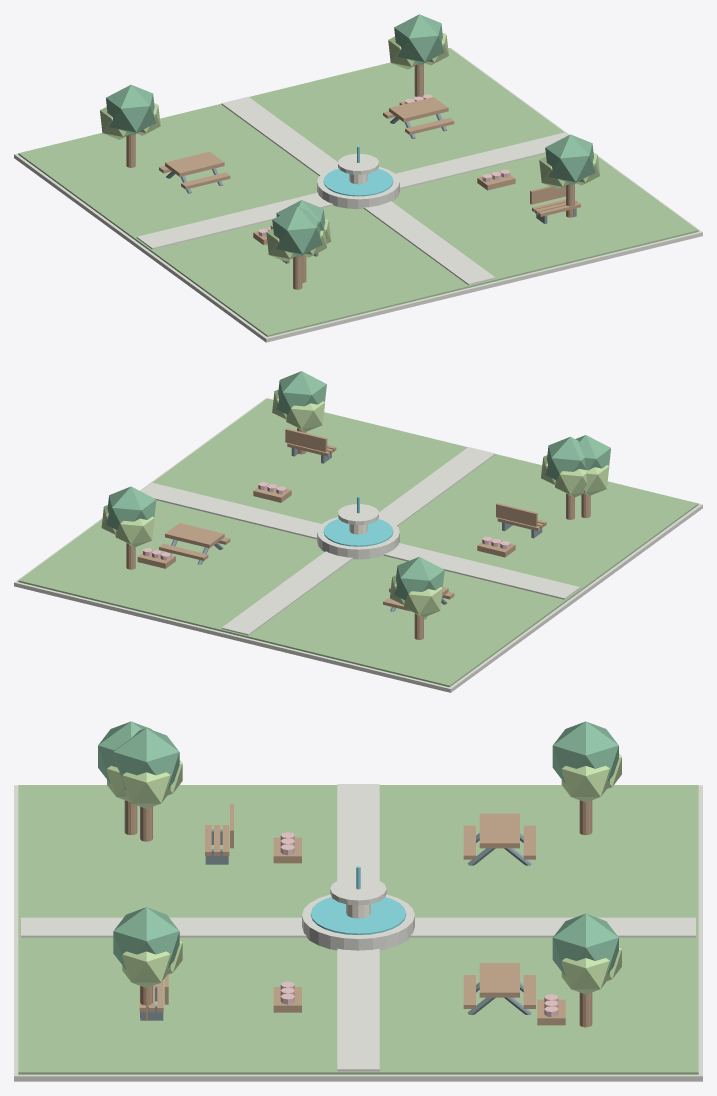
File: remaster_largePark.glb
The picture shows the model from 3 angles, top to bottom: view 1: azimuth 30°, elevation 25°; view 2: azimuth 150°, elevation 25°; view 3: azimuth 270°, elevation 25°; orthographic projection. The views are drawn at different scales.
Parts seen in each view (by area): view 1: lot surface.001, walking path.002, walking path.003, lot foundation.001, tree canopy.018, tree canopy.012, tree canopy.015, tree canopy.009, fountain basin, fountain water, picnic table, picnic table.001 (+1 smaller); view 2: lot surface.001, walking path.003, walking path.002, lot foundation.001, tree canopy.015, tree canopy.018, tree canopy.012, fountain basin, fountain water, tree canopy.021, picnic table.001, tree canopy.014 (+8 smaller); view 3: lot surface.001, walking path.002, walking path.003, lot foundation.001, tree canopy.012, tree canopy.015, tree canopy.018, fountain basin, tree canopy.021, fountain water, picnic table, picnic table.001 (+7 smaller).
Part boxes in pixels (x1,y1,x2,y2): lot surface.001: (18, 48, 698, 336); walking path.002: (221, 96, 495, 285); walking path.003: (136, 132, 568, 249); lot foundation.001: (14, 48, 702, 342); tree canopy.018: (545, 134, 595, 185); tree canopy.012: (394, 14, 444, 64); tree canopy.015: (106, 84, 156, 135); tree canopy.009: (272, 206, 322, 257); fountain basin: (317, 166, 399, 209); fountain water: (323, 168, 393, 196); picnic table: (165, 151, 224, 176); picnic table.001: (389, 97, 448, 121); lot surface.001: (18, 398, 698, 687); walking path.003: (141, 482, 580, 599); walking path.002: (221, 447, 495, 635); lot foundation.001: (14, 398, 702, 692); tree canopy.015: (394, 556, 444, 600); tree canopy.018: (276, 371, 326, 414); tree canopy.012: (106, 486, 156, 529); fountain basin: (317, 517, 399, 559); fountain water: (323, 519, 393, 546); tree canopy.021: (545, 436, 585, 480); picnic table.001: (165, 523, 224, 548); tree canopy.014: (115, 516, 154, 547); lot surface.001: (18, 785, 698, 1074); walking path.002: (21, 917, 695, 937); walking path.003: (337, 784, 379, 1071); lot foundation.001: (14, 785, 702, 1081); tree canopy.012: (552, 913, 618, 976); tree canopy.015: (552, 721, 618, 784); tree canopy.018: (113, 907, 179, 969); fountain basin: (302, 894, 414, 950); tree canopy.021: (113, 728, 179, 790); fountain water: (310, 897, 406, 934); picnic table: (479, 813, 519, 848); picnic table.001: (479, 963, 519, 997).
Size of the model in its own units: 19.5 by 3.7 by 19.5.
